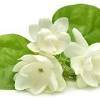jasmine: (6, 49, 64, 92), (60, 26, 99, 84), (24, 19, 68, 51)
